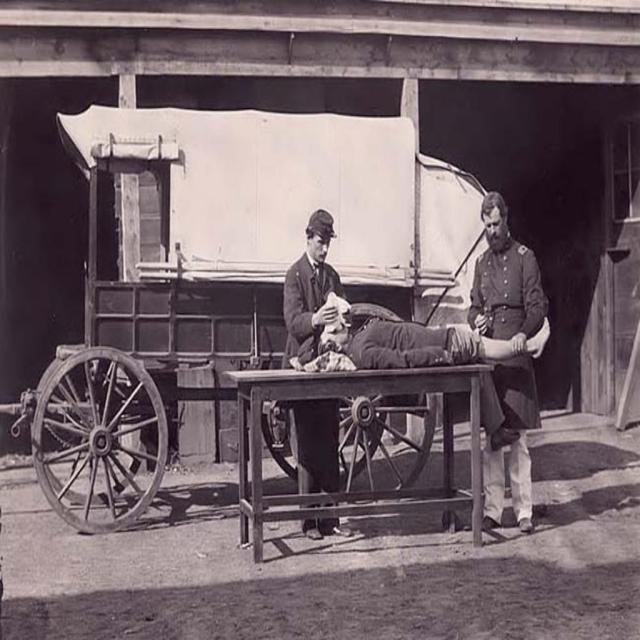nomask: (482, 207, 503, 248), (310, 229, 331, 262)
